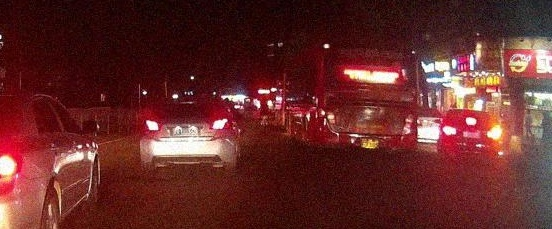L_light: (143, 120, 160, 132), (326, 111, 335, 130), (443, 126, 456, 135)
R_light: (209, 119, 232, 129), (403, 115, 413, 134), (486, 129, 499, 137)
T_light: (179, 101, 194, 106), (360, 53, 375, 57), (466, 118, 476, 124)
night-no: (318, 43, 417, 154), (140, 98, 237, 176)
night-right: (440, 108, 500, 161)
